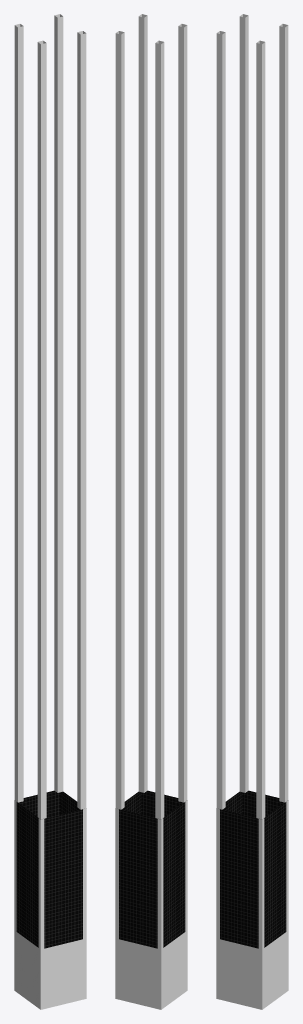
The model's file is grid_tower.FBX.
3 renders of one model, left to right at view 1: azimuth 30°, elevation 25°; view 2: azimuth 150°, elevation 25°; view 3: azimuth 330°, elevation 25°, orthographic.
Parts seen in each view (by area): view 1: grid_tower; view 2: grid_tower; view 3: grid_tower.
Part boxes in pixels (box(x1,y1,x2,y2)): grid_tower: box(14, 14, 86, 1009); grid_tower: box(115, 14, 187, 1009); grid_tower: box(216, 14, 288, 1009).
Size of the model in its own units: 161 by 3246 by 161.
Materials: 2 (2 with a texture image).
